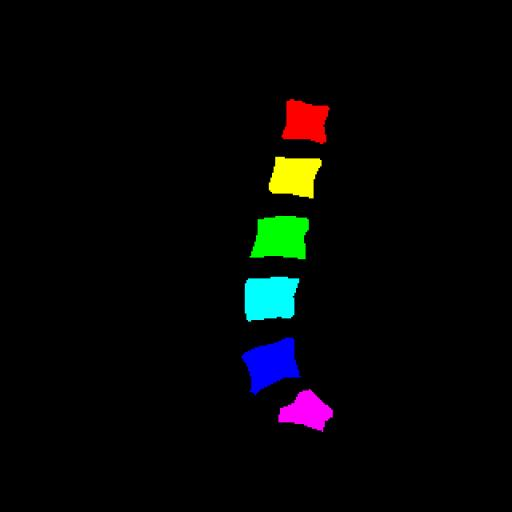L1: (282, 99, 329, 144)
L2: (269, 157, 322, 198)
L3: (250, 216, 309, 258)
L4: (245, 277, 299, 321)
L5: (242, 338, 300, 394)
S1: (278, 389, 333, 431)
